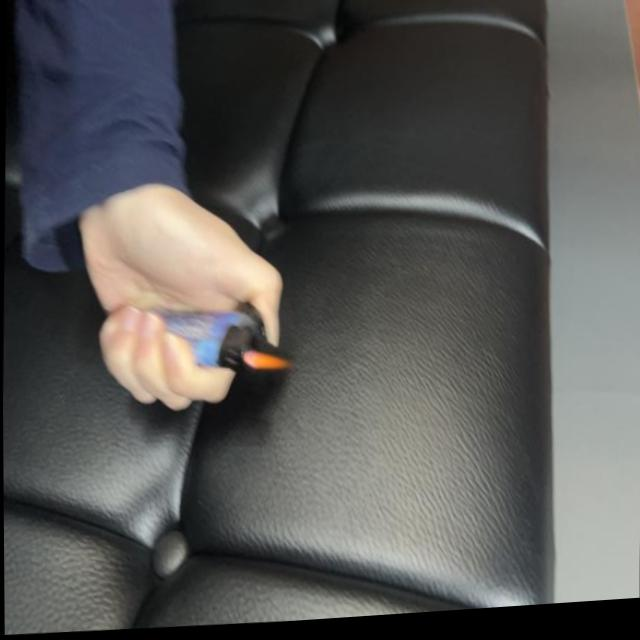Fire: (241, 351, 288, 376)
